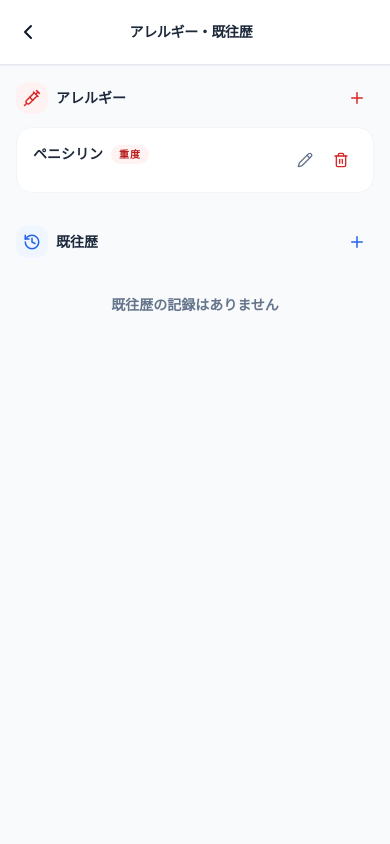
Test case: MedicalHistoryView › opens the edit form pre-filled for an existing record
Click the button named "ペニシリンを編集" at (305, 160), box [289,144,321,176]
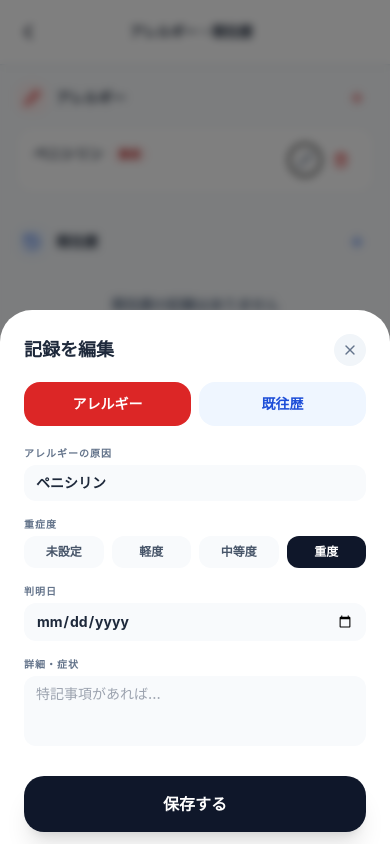
Result: the field labelled "アレルギーの原因" holds "ペニシリン" at [24,465,366,501]
